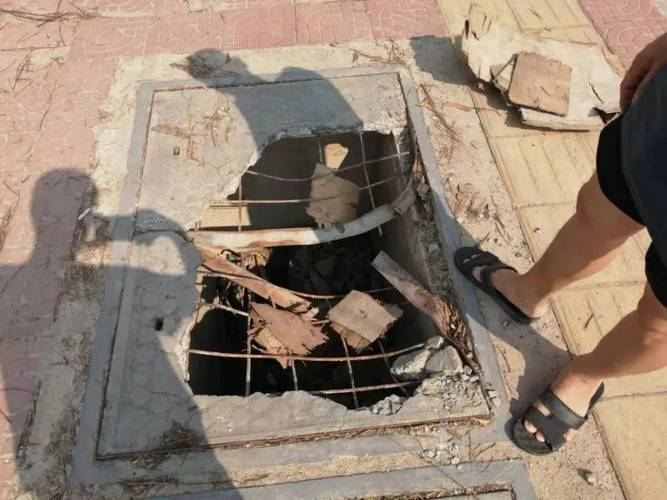broke: (107, 62, 506, 461)
